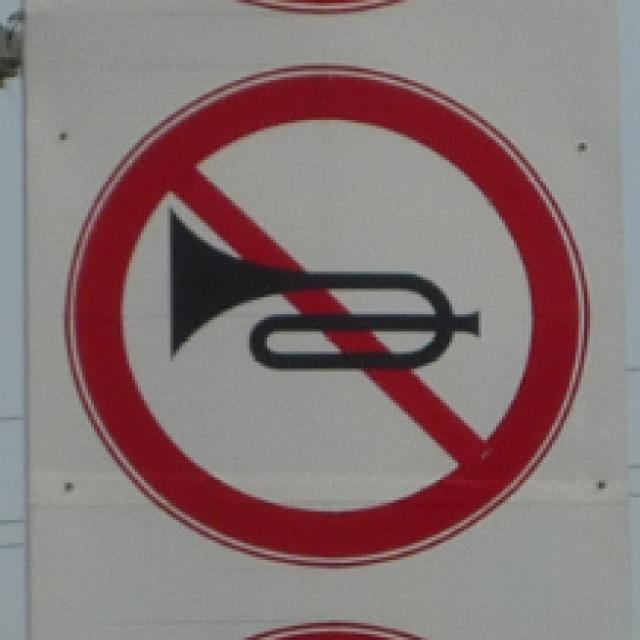No Horn: (83, 68, 576, 568)
